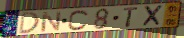8: (93, 8, 111, 31)
C: (67, 9, 90, 31)
D: (17, 11, 41, 35)
N: (40, 10, 63, 33)
T: (122, 6, 140, 28)
X: (140, 4, 164, 28)
